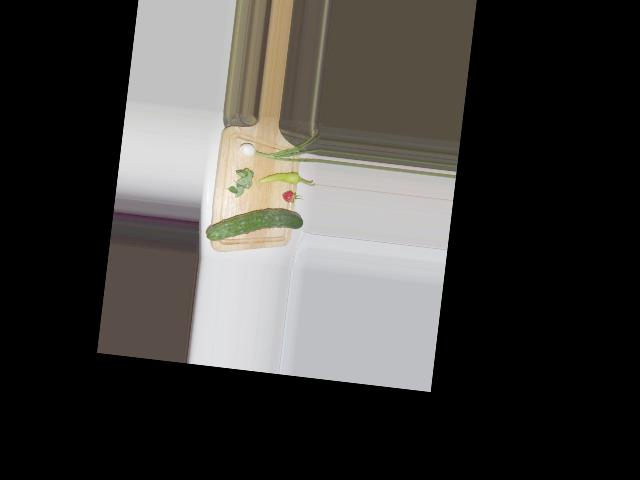cucumber: (205, 201, 303, 251)
